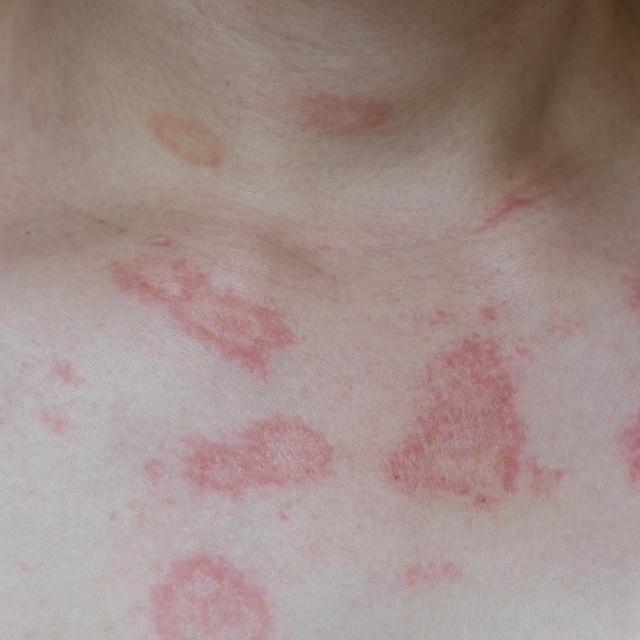Erythema marginatum: (138, 439, 329, 640), (388, 322, 566, 519), (114, 221, 297, 381)
